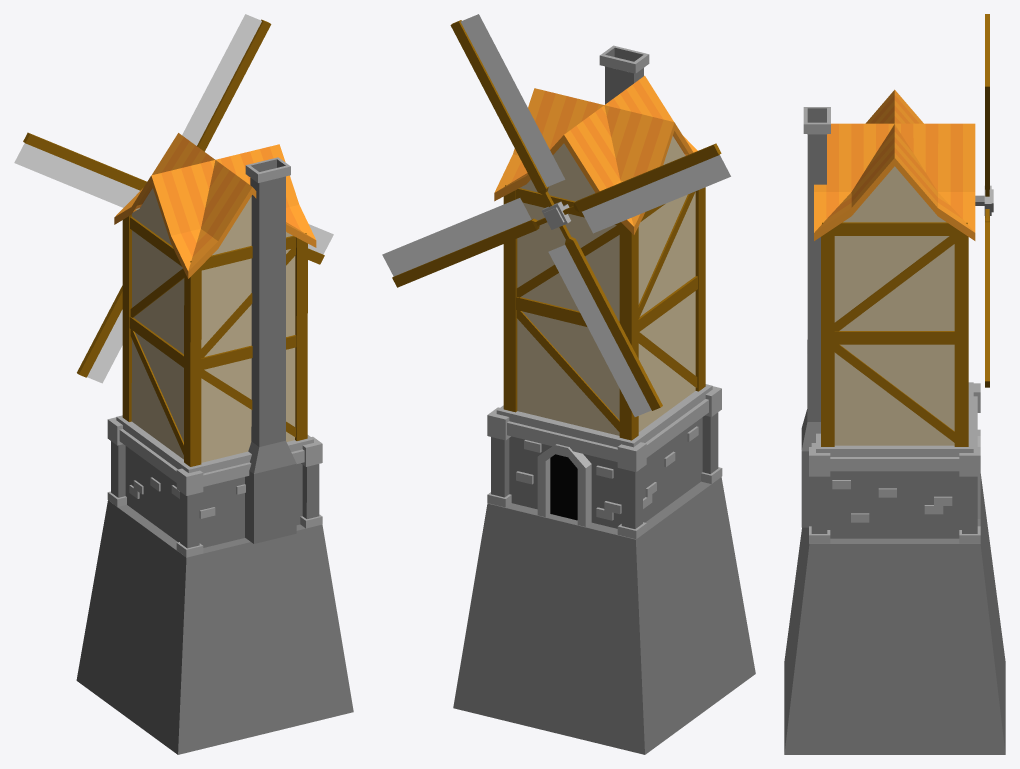
File: mill.gltf
The picture shows the model from 3 angles, left to right: view 1: azimuth 30°, elevation 25°; view 2: azimuth 150°, elevation 25°; view 3: azimuth 270°, elevation 25°; orthographic projection. The views are drawn at different scales.
Parts seen in each view (by area): view 1: Cube.001, Cube.002; view 2: Cube.001, Cube.002; view 3: Cube.001, Cube.002.
Part boxes in pixels (box(x1,y1,x2,y2)): Cube.001: box(76, 133, 353, 754); Cube.002: box(14, 14, 333, 383); Cube.001: box(453, 45, 755, 754); Cube.002: box(382, 14, 730, 416); Cube.001: box(784, 89, 1005, 754); Cube.002: box(975, 14, 993, 387).
Size of the model in its own units: 1.82 by 3.44 by 1.
1 material, 1 textured.
